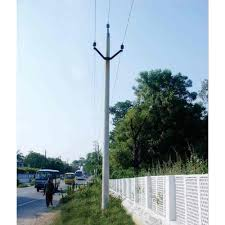light_pole: (99, 24, 117, 209)
